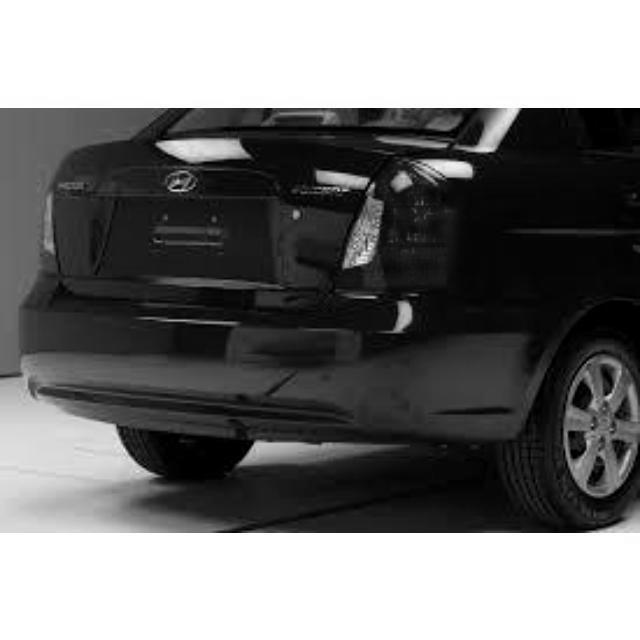rear-bumper-dent: (193, 317, 365, 438)
